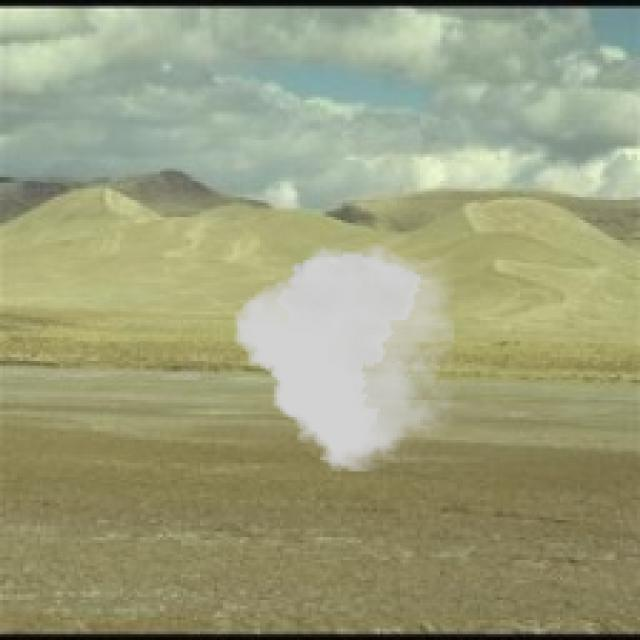smoke: (235, 243, 454, 471)
